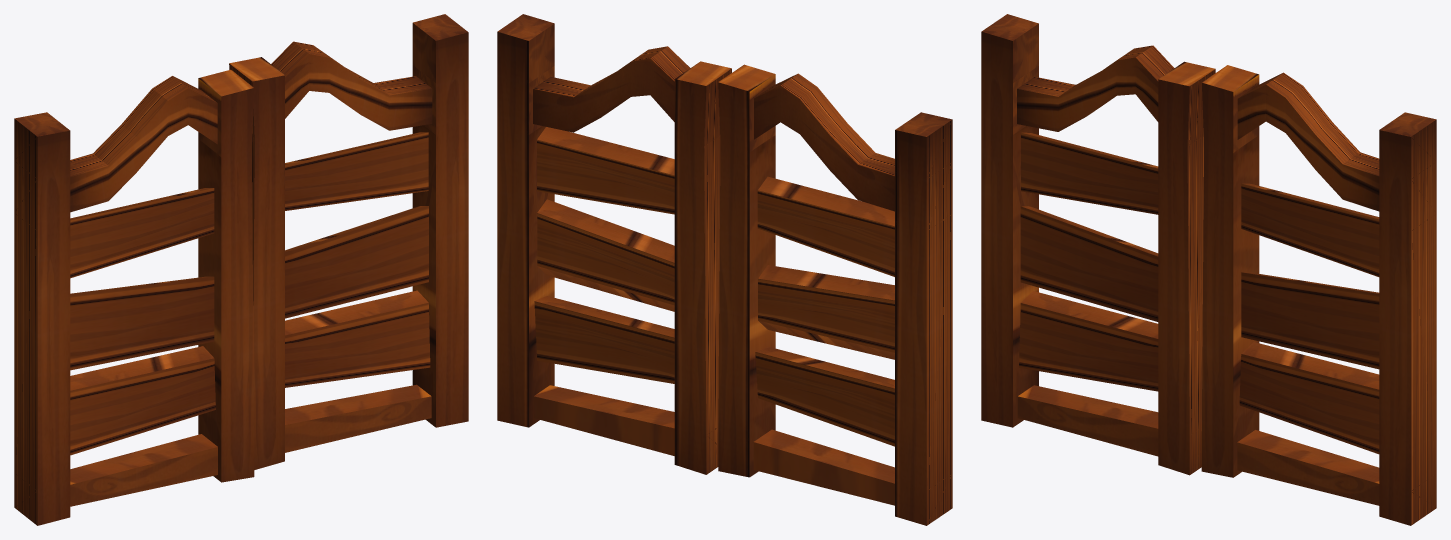
Rendered from ANIMACION PUERTAabrir1.fbx.
The picture shows the model from 3 angles, left to right: view 1: azimuth 30°, elevation 25°; view 2: azimuth 150°, elevation 25°; view 3: azimuth 330°, elevation 25°; orthographic projection.
Visible parts, largest first — view 1: Cube.001, Cube.051; view 2: Cube.001, Cube.051; view 3: Cube.051, Cube.001.
Part boxes in pixels (<box>): Cube.001: <box>14,69,254,525</box>; Cube.051: <box>229,14,468,469</box>; Cube.001: <box>718,64,952,525</box>; Cube.051: <box>497,14,731,474</box>; Cube.051: <box>1201,65,1436,525</box>; Cube.001: <box>981,14,1215,475</box>.
Bounding box in the file's own units: 130 × 114 × 16.36.
